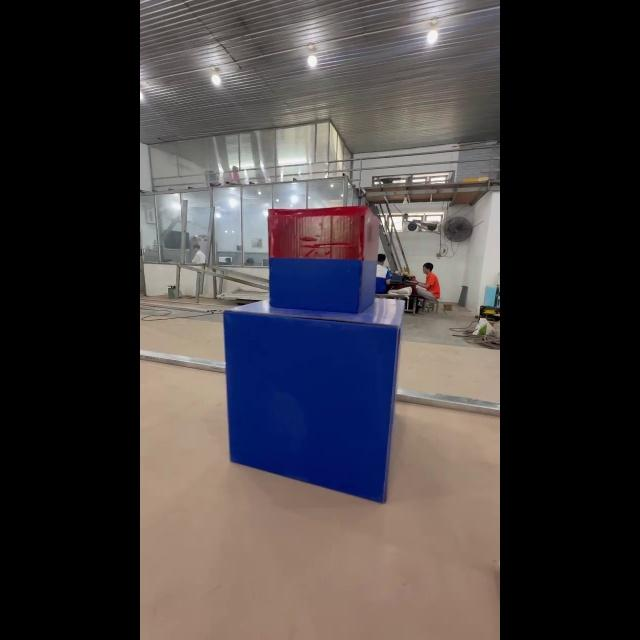earth_block: (208, 298, 441, 505)
sky_block: (266, 204, 382, 314)
